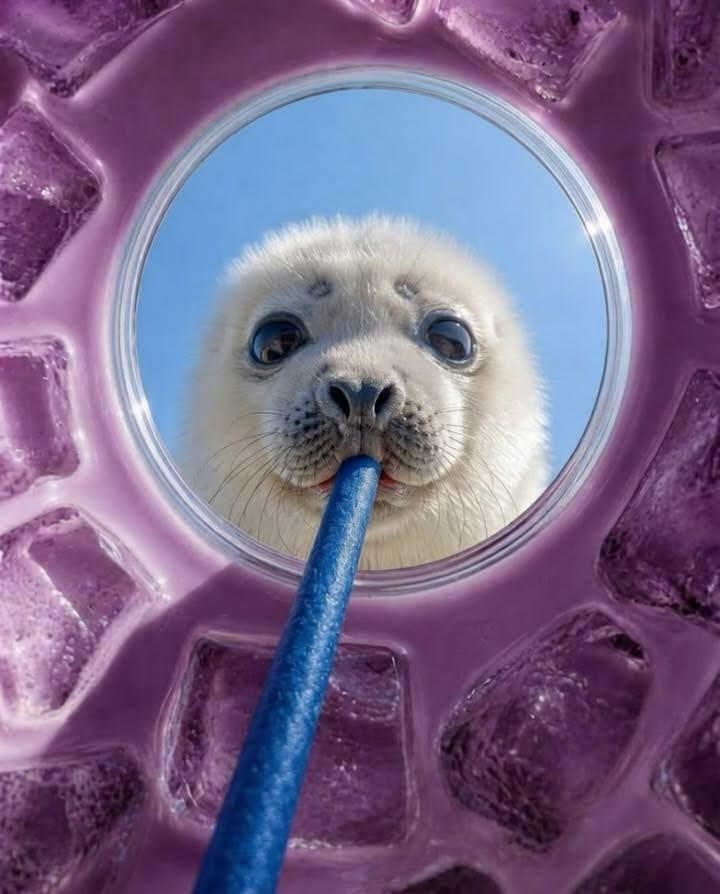non-dog: (166, 208, 552, 571)
